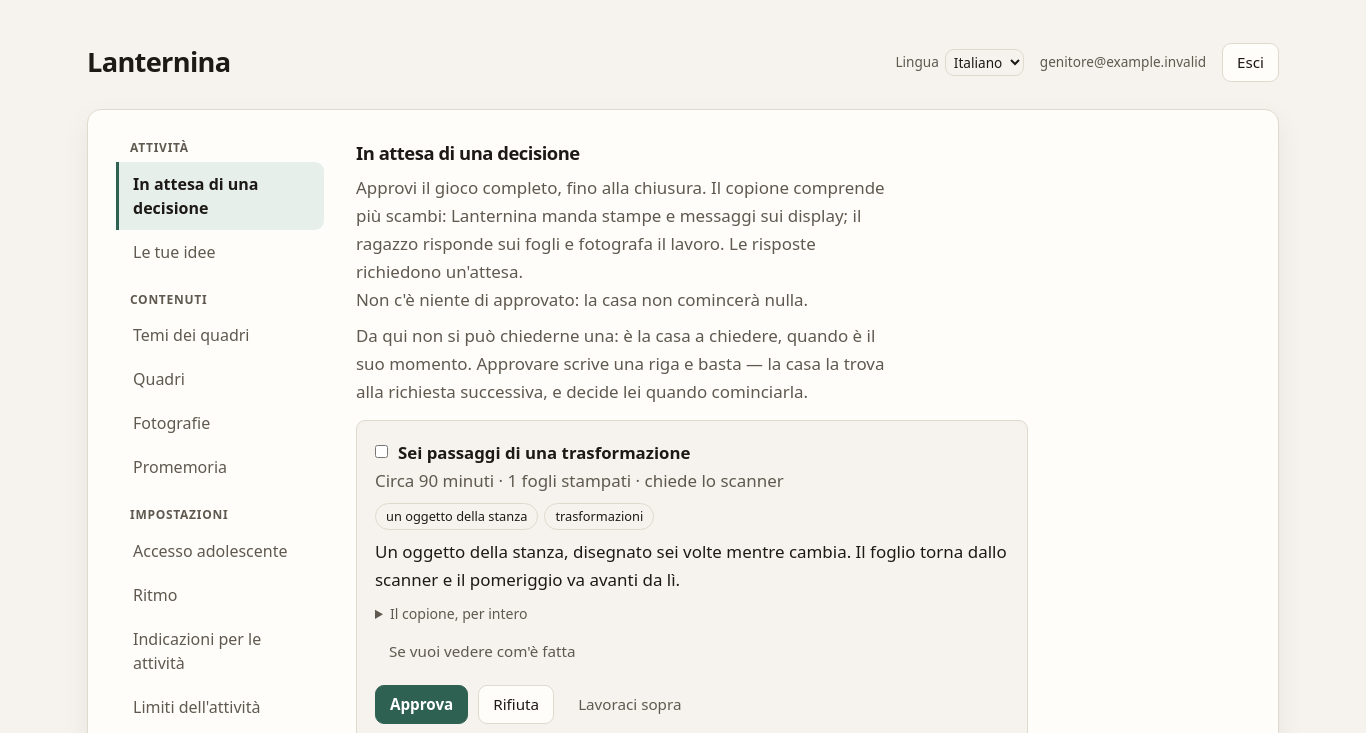
Test case: coming back to the panel › asks a second time before saying it cannot read anything
Click the button "Ritmo": (220, 595) x1=116 y1=573 x2=324 y2=617
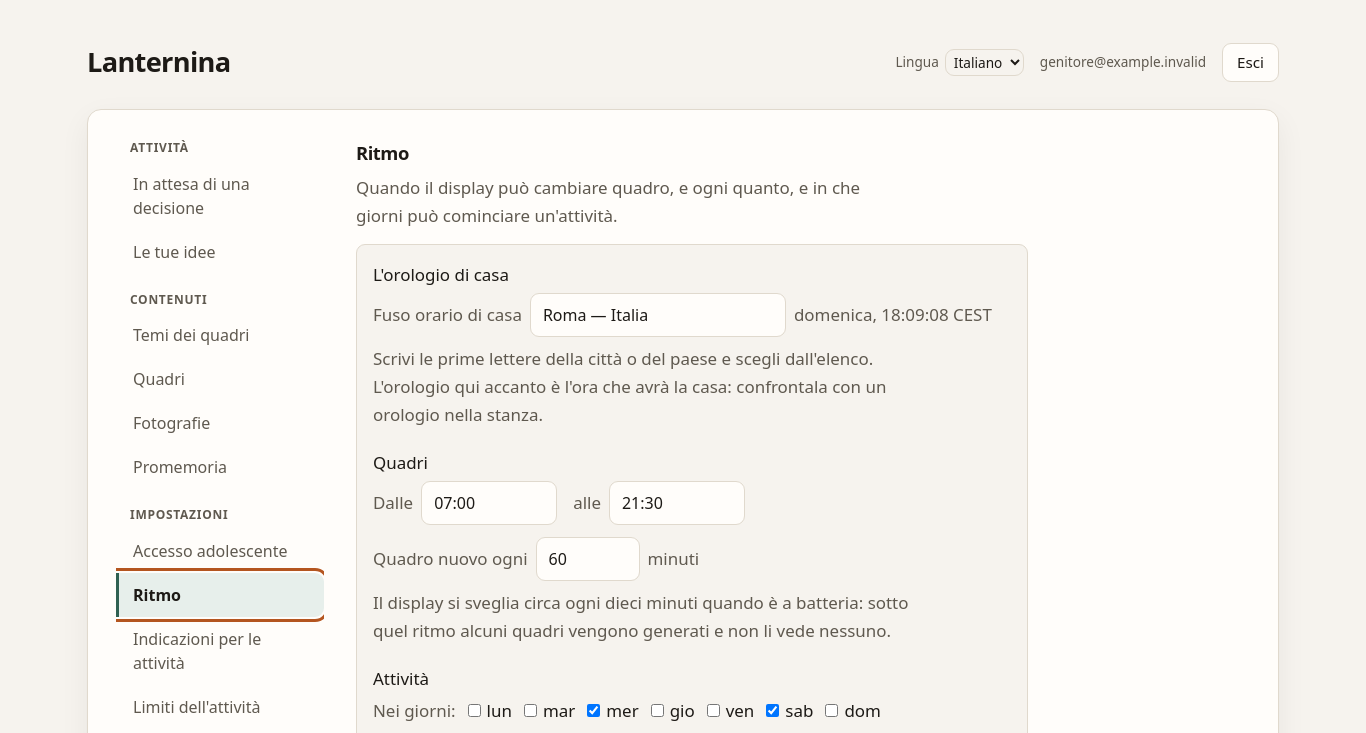
Expected: the number field labelled "Quadro nuovo ogni" is shown, x1=536 y1=537 x2=640 y2=581
